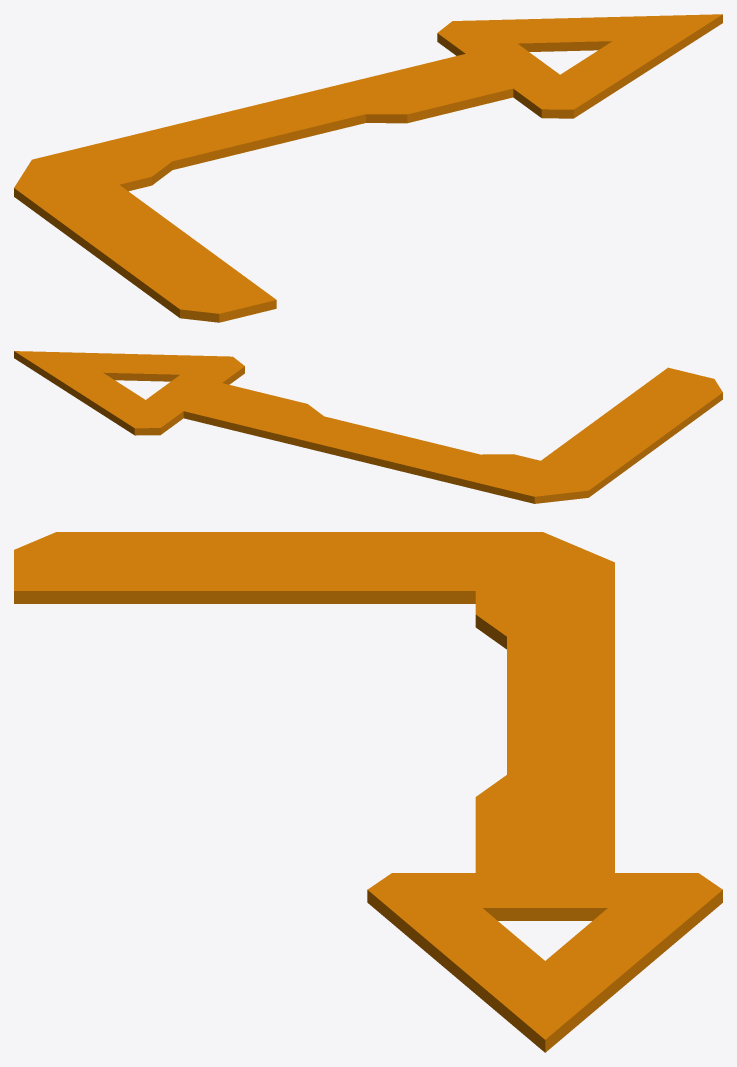
Rendered from LPSciFi_CornerRoadArrow.fbx.
The picture shows the model from 3 angles, top to bottom: view 1: azimuth 30°, elevation 25°; view 2: azimuth 150°, elevation 25°; view 3: azimuth 270°, elevation 25°; orthographic projection. The views are drawn at different scales.
Parts seen in each view (by area): view 1: CornerRoadArrow; view 2: CornerRoadArrow; view 3: CornerRoadArrow.
Boxes of the visible parts, left/top/right/bottom form: CornerRoadArrow: left=14, top=14, right=722, bottom=322; CornerRoadArrow: left=14, top=351, right=722, bottom=503; CornerRoadArrow: left=14, top=532, right=722, bottom=1052.
Size of the model in its own units: 201 by 2.4 by 119.
